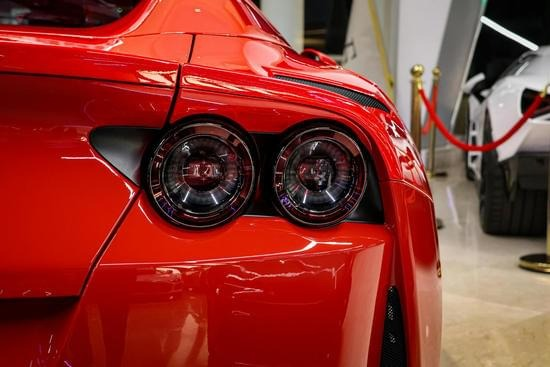car: (1, 1, 479, 366), (1, 5, 454, 367), (28, 104, 430, 365), (1, 1, 404, 244), (402, 1, 547, 228)
